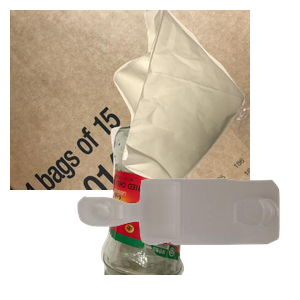cardboard: (10, 10, 250, 190)
glass: (98, 120, 286, 300)
plastic: (75, 176, 300, 300)
trash: (111, 10, 300, 190)
